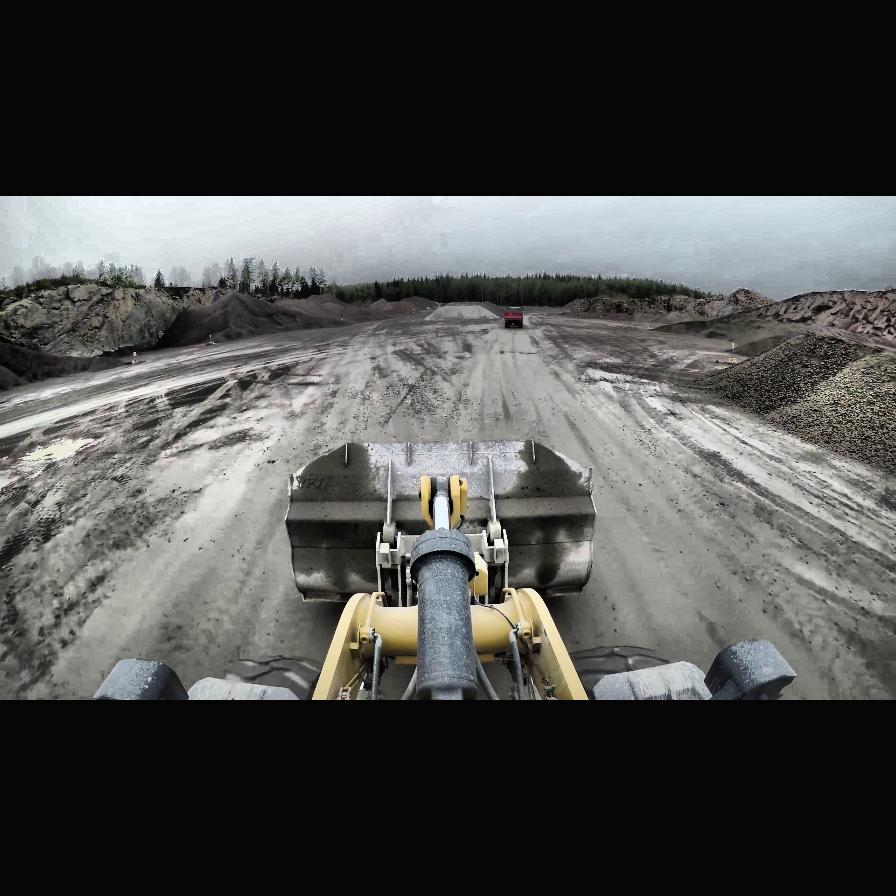anchor: (419, 474, 466, 530)
pile of gravel: (673, 329, 895, 471), (156, 290, 344, 348), (4, 336, 132, 384), (652, 318, 796, 356), (224, 289, 288, 317), (422, 302, 502, 322), (394, 296, 440, 310), (680, 358, 716, 372), (303, 293, 343, 305), (368, 298, 392, 312), (444, 301, 480, 307)
